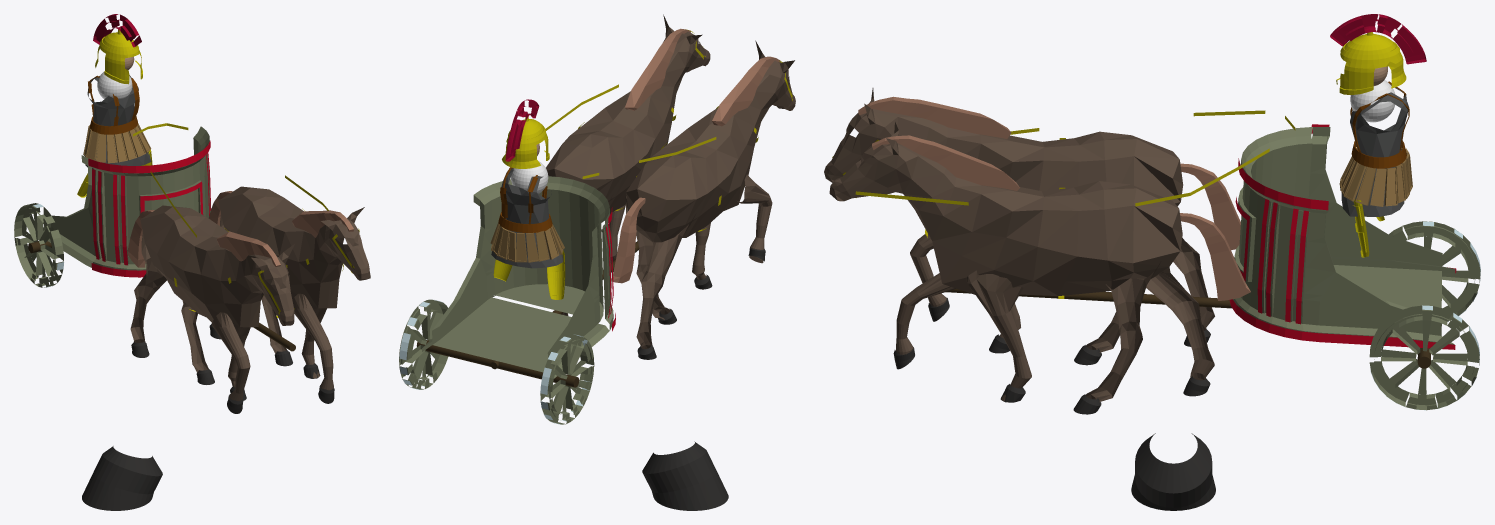
The model's file is Chariot.glb.
3 views of the same model, side by side, from view 1: azimuth 30°, elevation 25°; view 2: azimuth 150°, elevation 25°; view 3: azimuth 270°, elevation 25° (orthographic). The views are drawn at different scales.
Parts seen in each view (by area): view 1: horse body, horse body.001, chariot, hoof, chariot.001, wheel.001, armor upper leg, Circle.003, front left leg.001, helmet, rigth rear leg, front left leg (+10 smaller); view 2: chariot, horse body, horse body.001, hoof, wheel.001, wheel, Circle.003, armor upper leg, rigth rear leg, tail.002, tail.001, tail (+13 smaller); view 3: horse body.001, chariot, horse body, wheel, chariot.001, hoof, helmet, right front leg.001, left rear leg.001, wheel.001, Circle.003, armor upper leg (+13 smaller).
Part boxes in pixels (box(x1,y1,x2,y2)): horse body: box(140, 205, 294, 328); horse body.001: box(218, 186, 370, 309); chariot: box(42, 126, 210, 270); hoof: box(82, 446, 162, 510); chariot.001: box(88, 140, 211, 277); wheel.001: box(14, 203, 63, 287); armor upper leg: box(83, 123, 151, 163); Circle.003: box(85, 75, 151, 167); front left leg.001: box(292, 293, 333, 390); helmet: box(95, 29, 142, 84); rigth rear leg: box(130, 233, 166, 342); front left leg: box(212, 312, 250, 413); chariot: box(422, 176, 613, 378); horse body: box(625, 40, 795, 242); horse body.001: box(546, 14, 710, 213); hoof: box(642, 441, 728, 510); wheel.001: box(540, 334, 594, 424); wheel: box(399, 299, 448, 389); Circle.003: box(491, 168, 563, 268); armor upper leg: box(490, 222, 564, 262); rigth rear leg: box(636, 214, 695, 348); tail.002: box(625, 28, 690, 110); tail.001: box(712, 56, 780, 126); tail: box(611, 197, 645, 283); horse body.001: box(829, 122, 1182, 295); chariot: box(1233, 127, 1455, 344); horse body: box(824, 88, 1183, 206); wheel: box(1369, 305, 1479, 410); chariot.001: box(1229, 124, 1456, 349); hoof: box(1131, 433, 1215, 510); helmet: box(1336, 32, 1406, 94); right front leg.001: box(966, 270, 1031, 402); left rear leg.001: box(1085, 262, 1160, 402); wheel.001: box(1389, 221, 1480, 321); Circle.003: box(1341, 84, 1409, 216); armor upper leg: box(1339, 147, 1412, 206).
Bounding box in the file's own units: 1.58 × 3.24 × 3.66.
